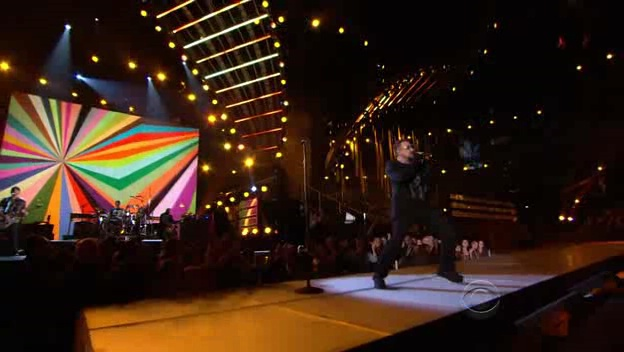person: (384, 141, 442, 241), (381, 141, 439, 241), (387, 141, 445, 241), (384, 138, 442, 238), (384, 144, 442, 244)
target_negative: (77, 52, 284, 207), (364, 224, 507, 283), (113, 290, 311, 326), (323, 320, 624, 330), (468, 267, 518, 305), (565, 188, 581, 195)
